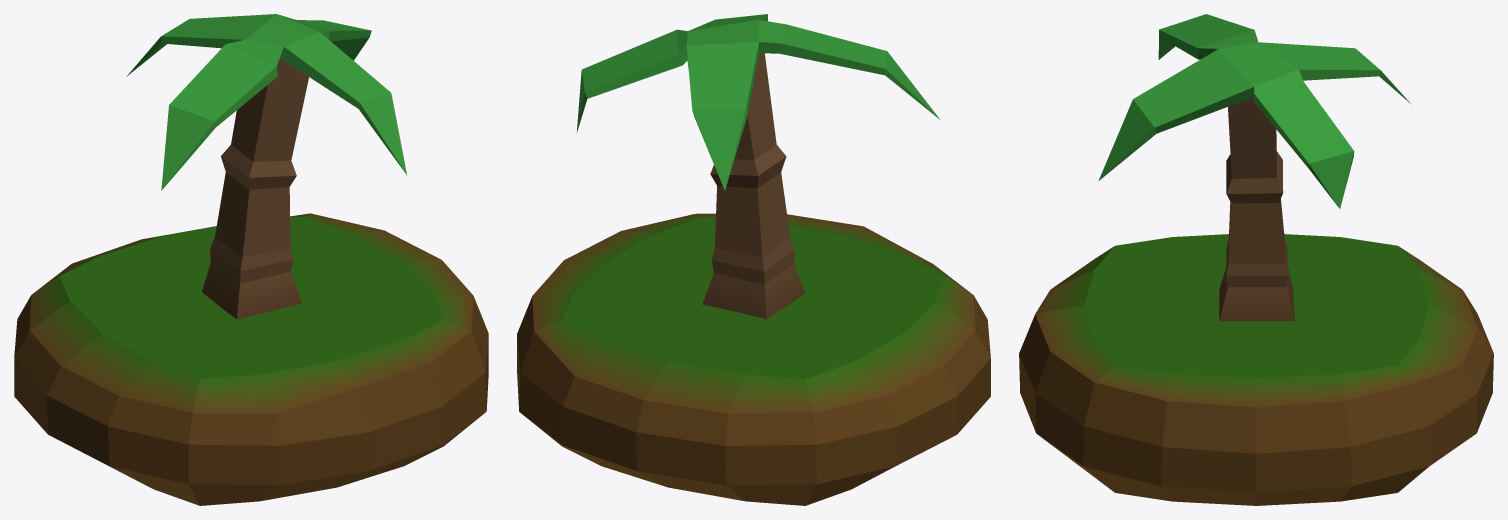
File: Island.fbx
The picture shows the model from 3 angles, left to right: view 1: azimuth 30°, elevation 25°; view 2: azimuth 150°, elevation 25°; view 3: azimuth 270°, elevation 25°; orthographic projection.
Visible parts, largest first — view 1: Island; view 2: Island; view 3: Island.
Boxes of the visible parts, x1,y1,x2,y2 form: Island: [14, 14, 488, 505]; Island: [517, 14, 990, 505]; Island: [1019, 14, 1493, 505].
Bounding box in the file's own units: 2.05 × 1.86 × 2.05.
